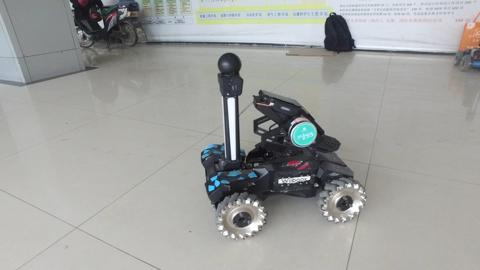bag: (321, 10, 357, 55)
chariot: (198, 51, 369, 242)
